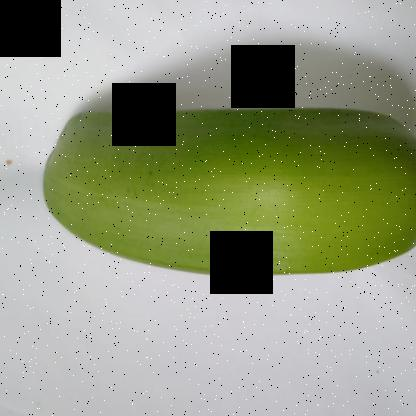freshunripe: (30, 78, 416, 301)
